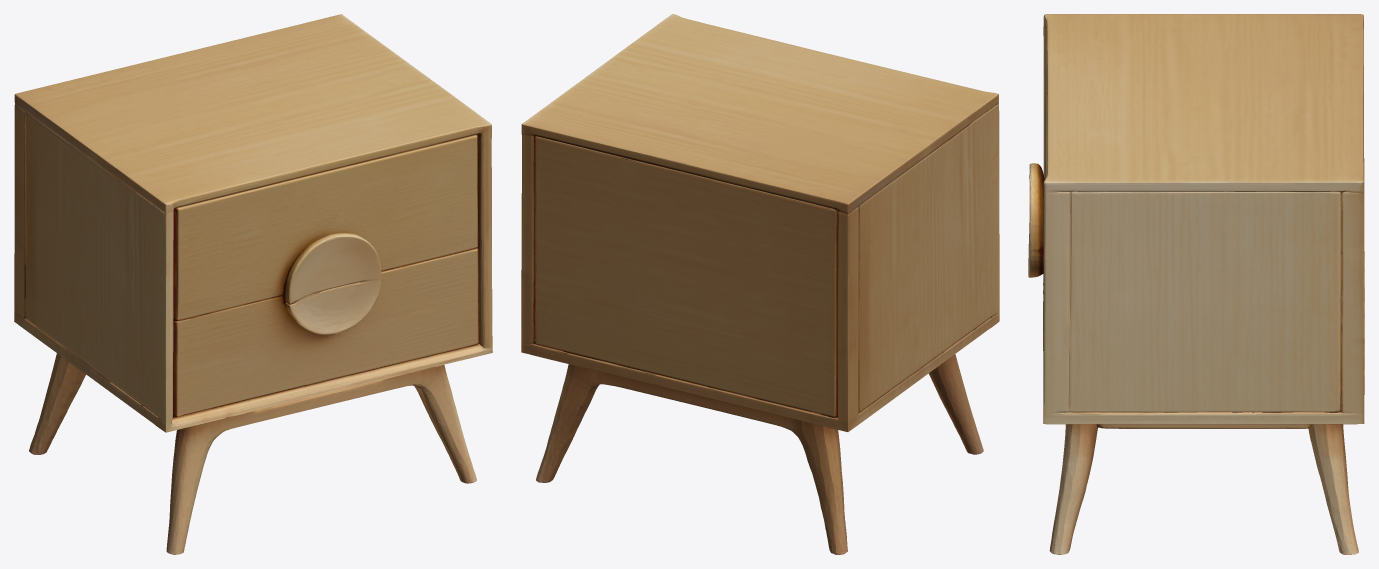
Rendered from BURO PLATOS.glb.
The picture shows the model from 3 angles, left to right: view 1: azimuth 30°, elevation 25°; view 2: azimuth 150°, elevation 25°; view 3: azimuth 270°, elevation 25°; orthographic projection. The views are drawn at different scales.
Visible parts, largest first — view 1: world; view 2: world; view 3: world.
Boxes of the visible parts, box(x1,y1,x2,y2) form: world: box(14, 14, 492, 554); world: box(521, 14, 999, 554); world: box(1028, 14, 1364, 554).
Bounding box in the file's own units: 0.5 × 0.52 × 0.42.
1 material, 1 textured.
